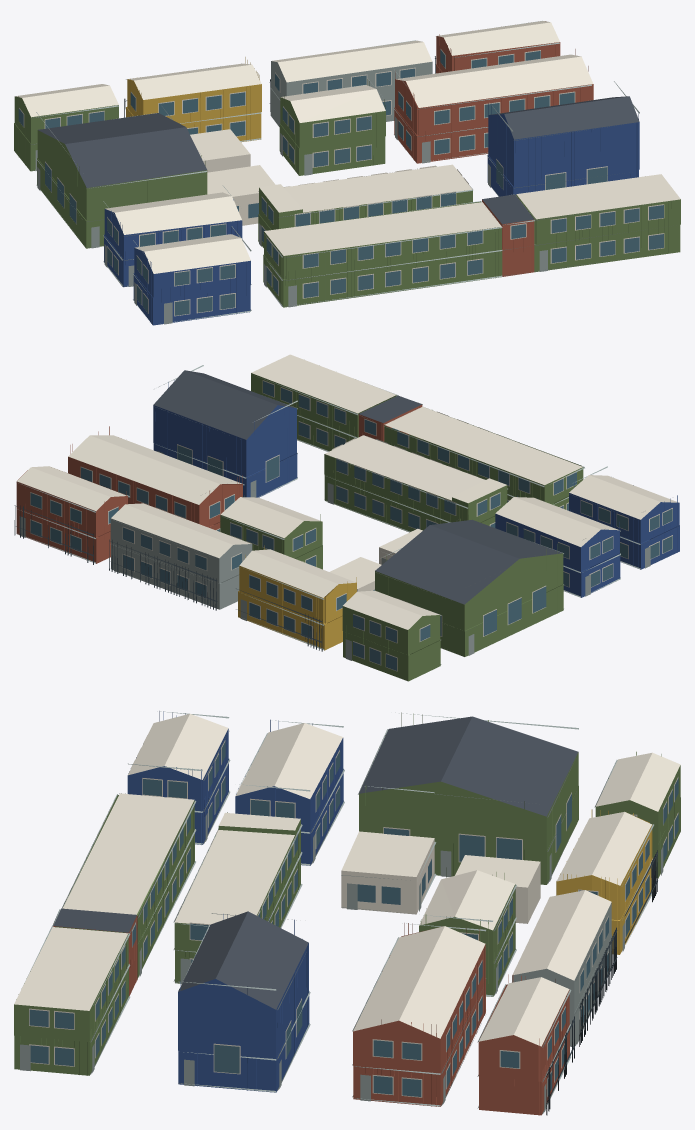
The model's file is treehouse-ndsm.lod1.glb.
3 views of the same model, one above another, from view 1: azimuth 30°, elevation 25°; view 2: azimuth 150°, elevation 25°; view 3: azimuth 270°, elevation 25° (orthographic). The views are drawn at different scales.
Visible parts, largest first — view 1: treehouse-ndsm; view 2: treehouse-ndsm; view 3: treehouse-ndsm.
Boxes of the visible parts, x1,y1,x2,y2 form: treehouse-ndsm: (14,20,680,325); treehouse-ndsm: (14,354,679,681); treehouse-ndsm: (14,711,680,1115).
Bounding box in the file's own units: 60.52 × 9.32 × 51.64.
